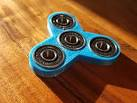fidget_spinner: (24, 2, 123, 80)
